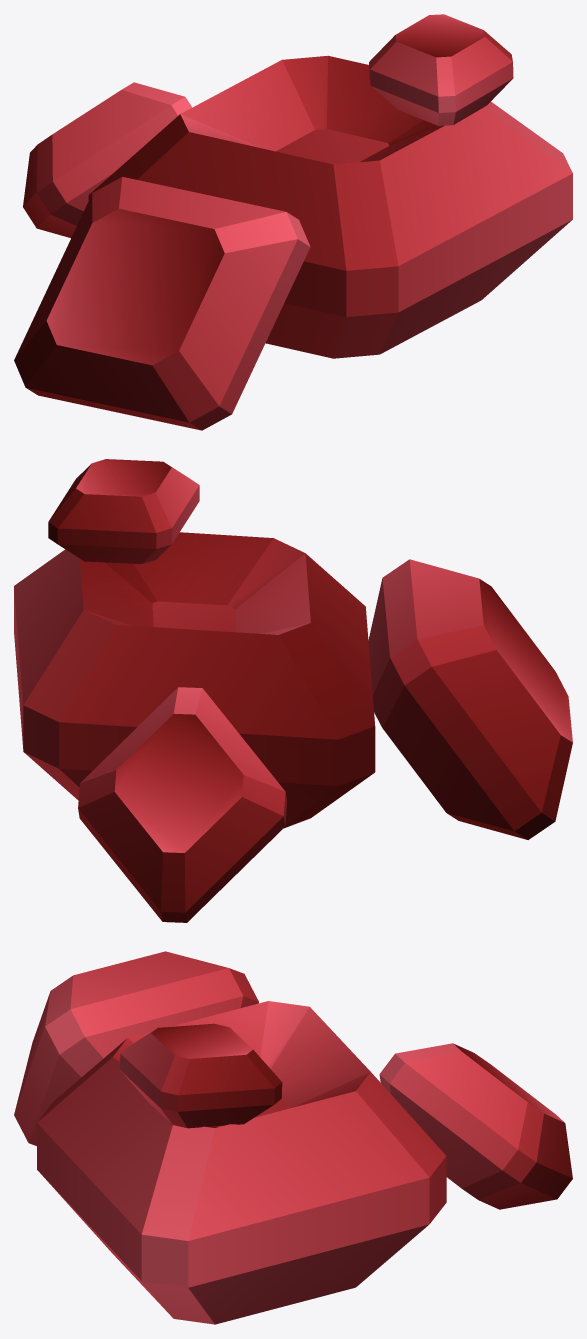
The model's file is Ruby_04.glb.
The picture shows the model from 3 angles, top to bottom: view 1: azimuth 30°, elevation 25°; view 2: azimuth 150°, elevation 25°; view 3: azimuth 270°, elevation 25°; orthographic projection.
Parts seen in each view (by area): view 1: Ruby_04; view 2: Ruby_04; view 3: Ruby_04.
Boxes of the visible parts, x1,y1,x2,y2 form: Ruby_04: (14,14,572,430); Ruby_04: (14,459,572,922); Ruby_04: (14,951,572,1324).
Size of the model in its own units: 0.5314 by 0.2483 by 0.4726.
1 material, 1 textured.
